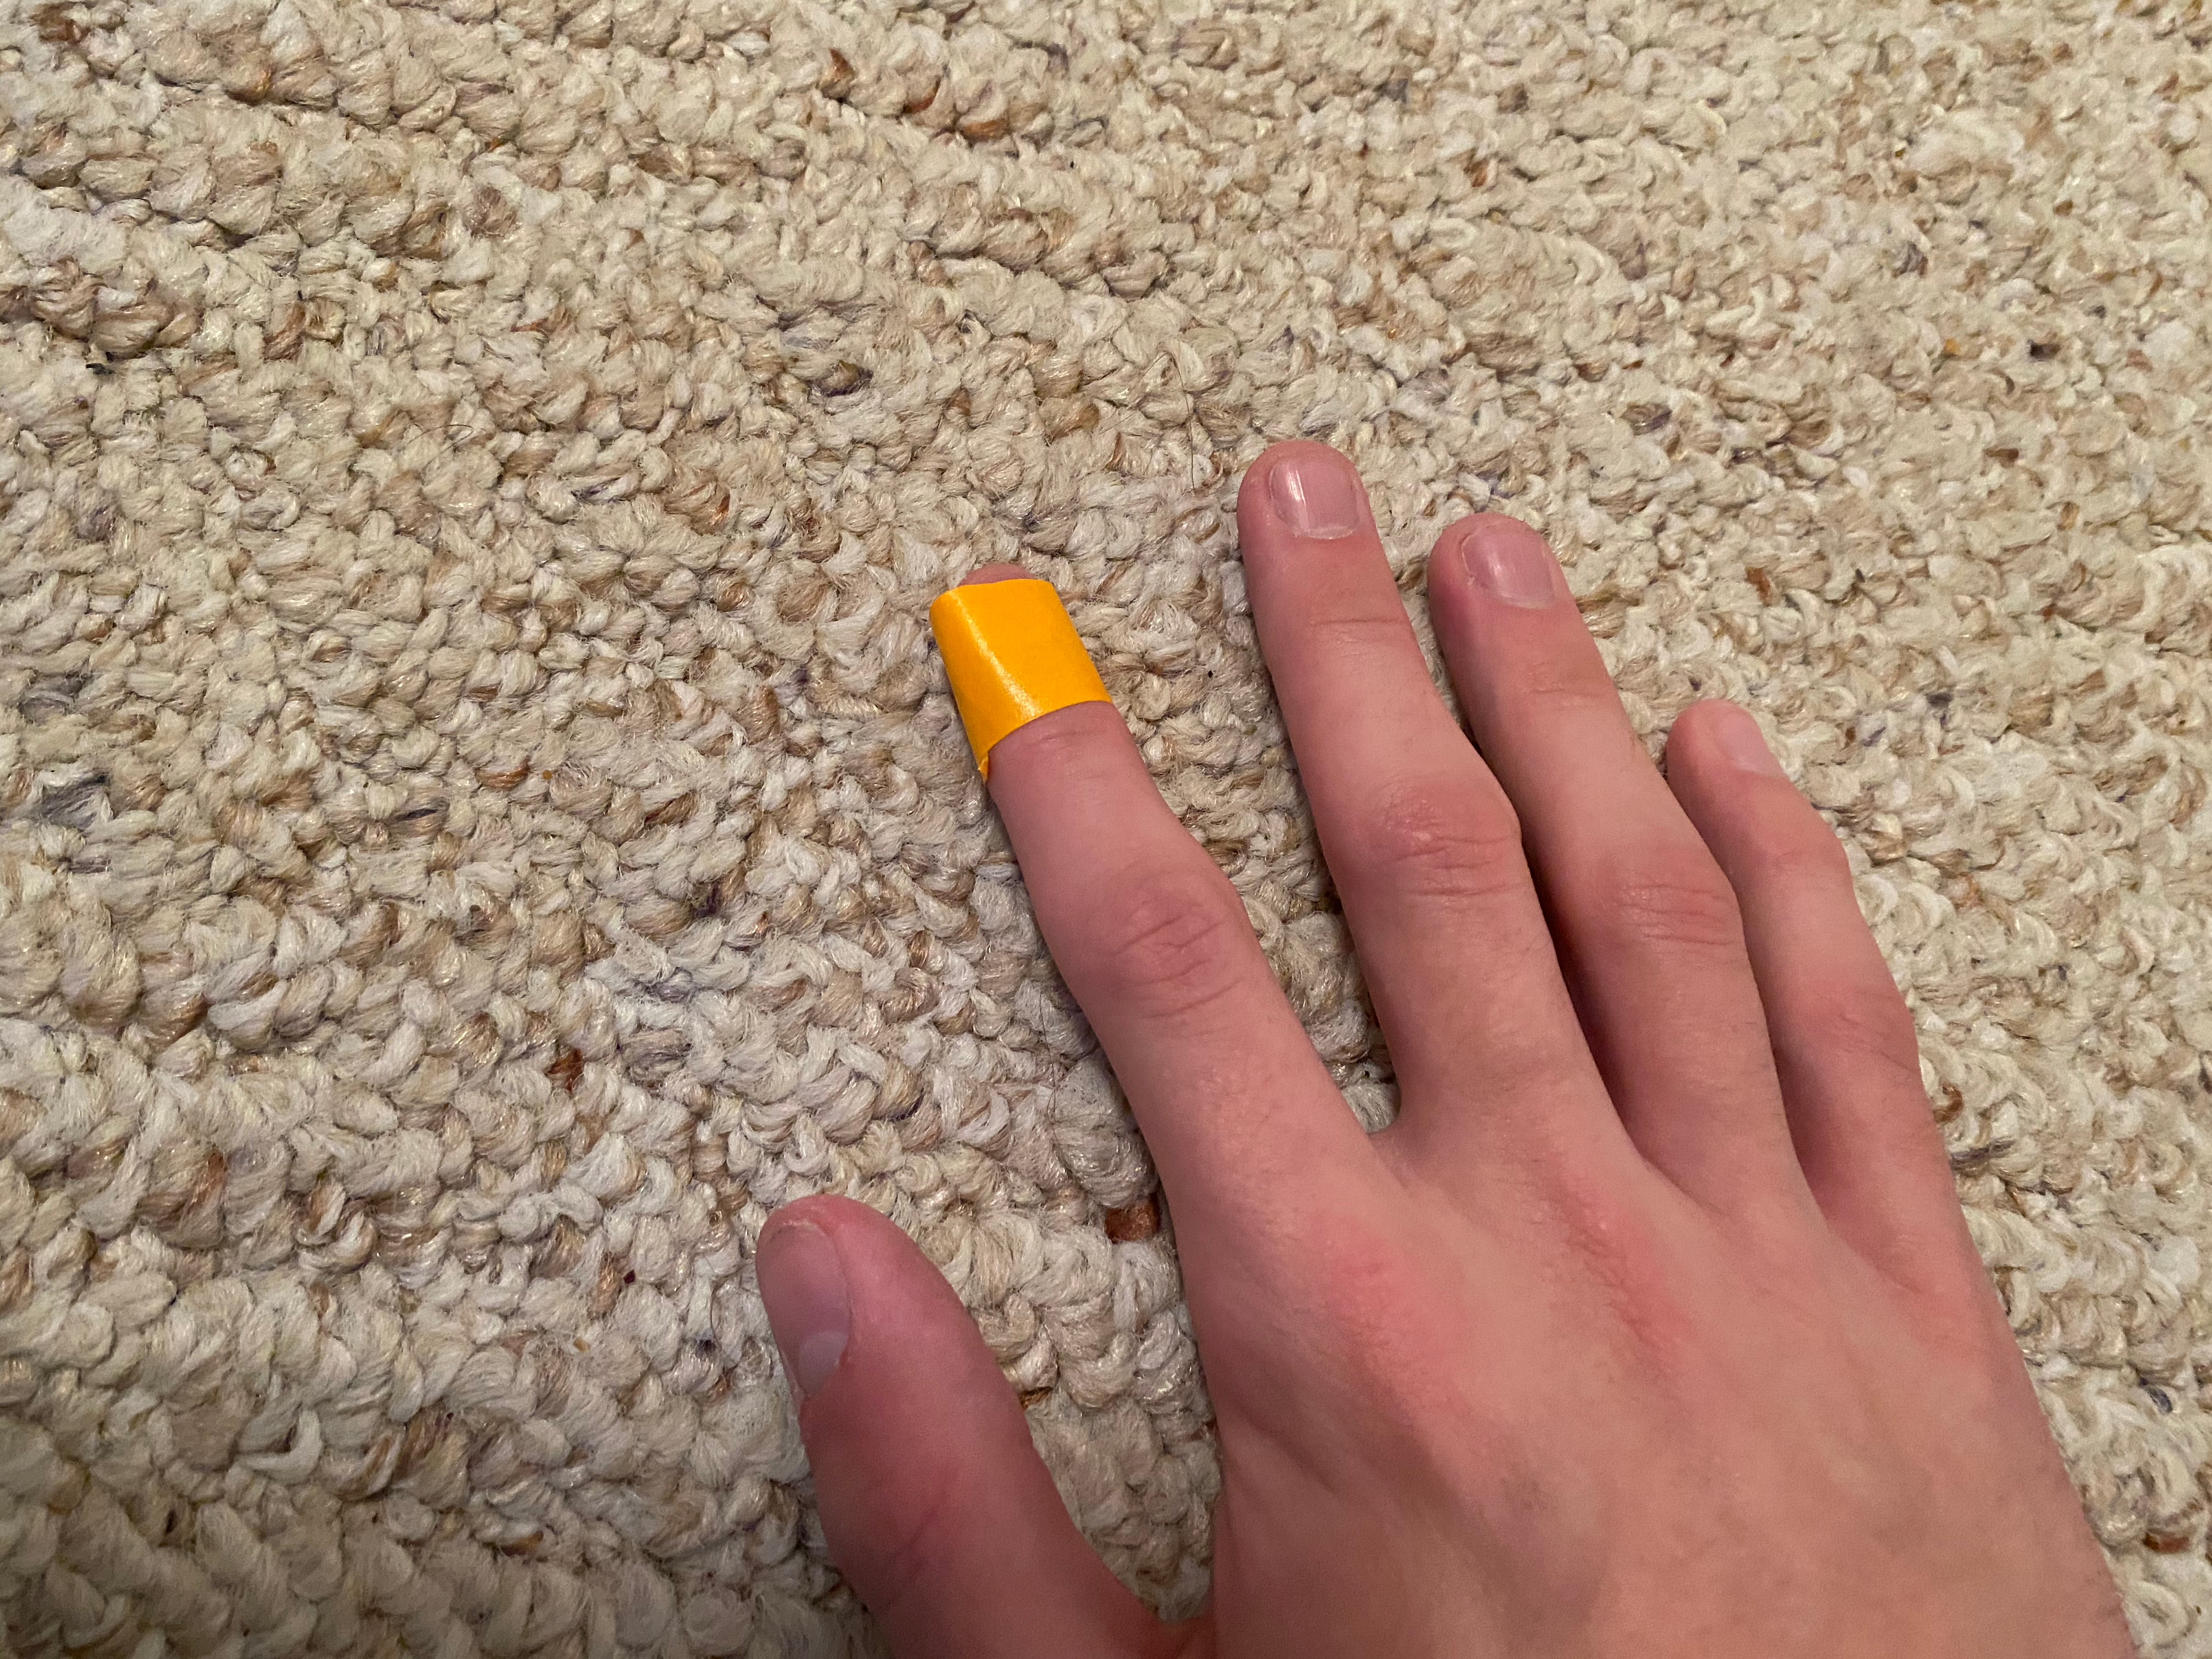fingertip: (867, 530, 1197, 775)
